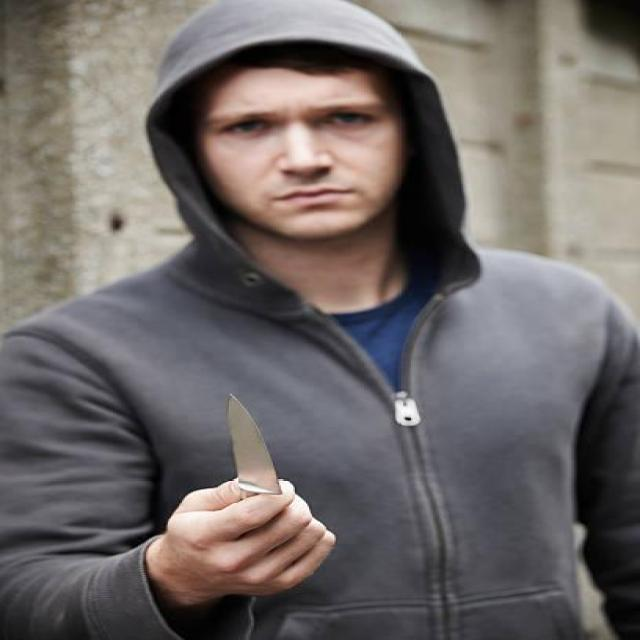faca: (149, 372, 355, 606)
